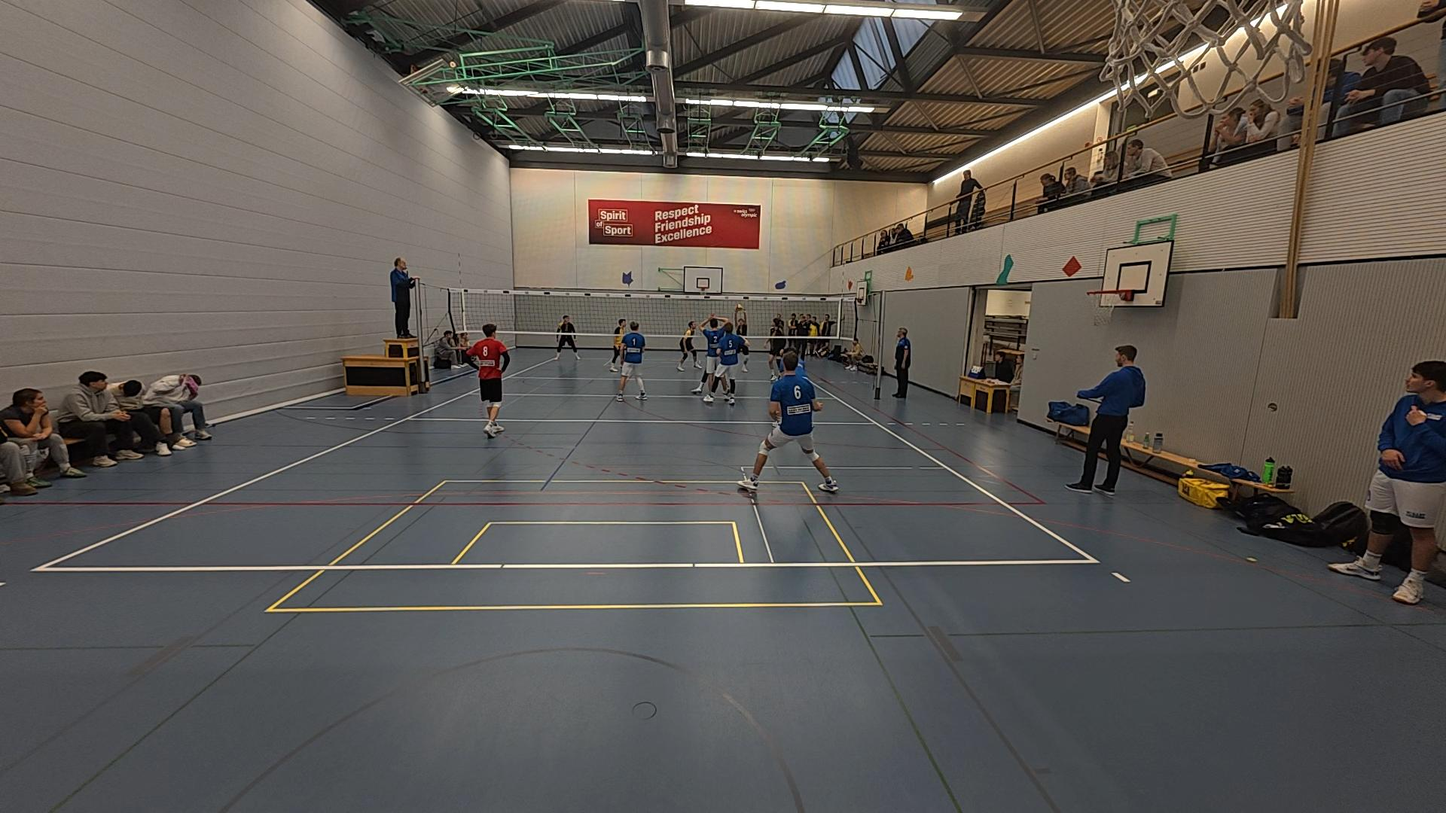ricezione: (730, 302, 751, 371)
